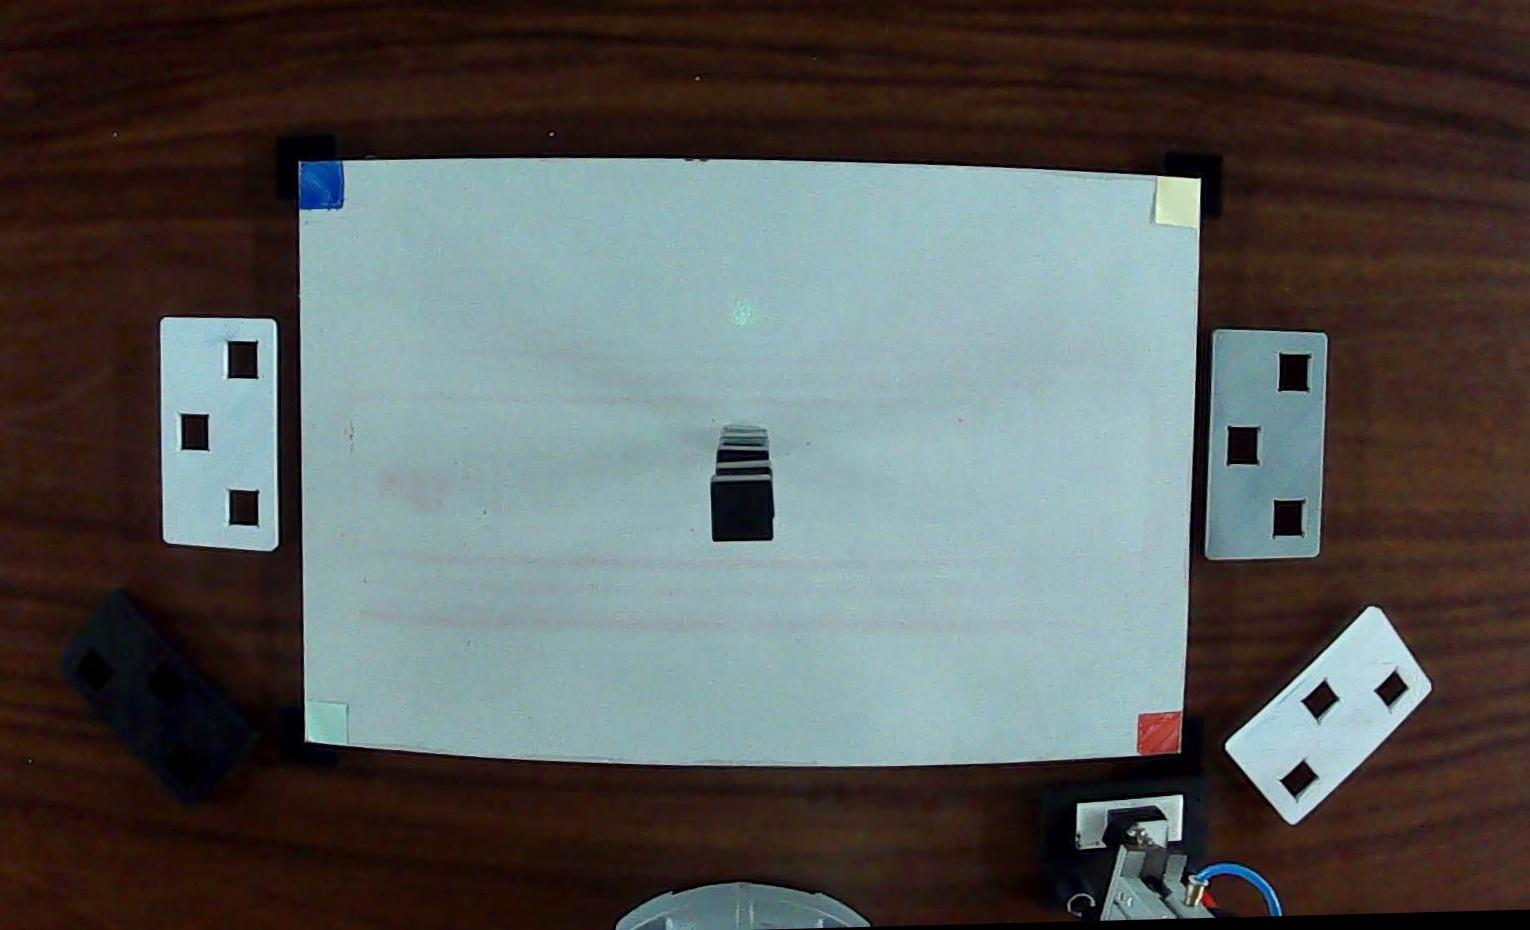pecaPreta: (706, 475, 778, 551)
